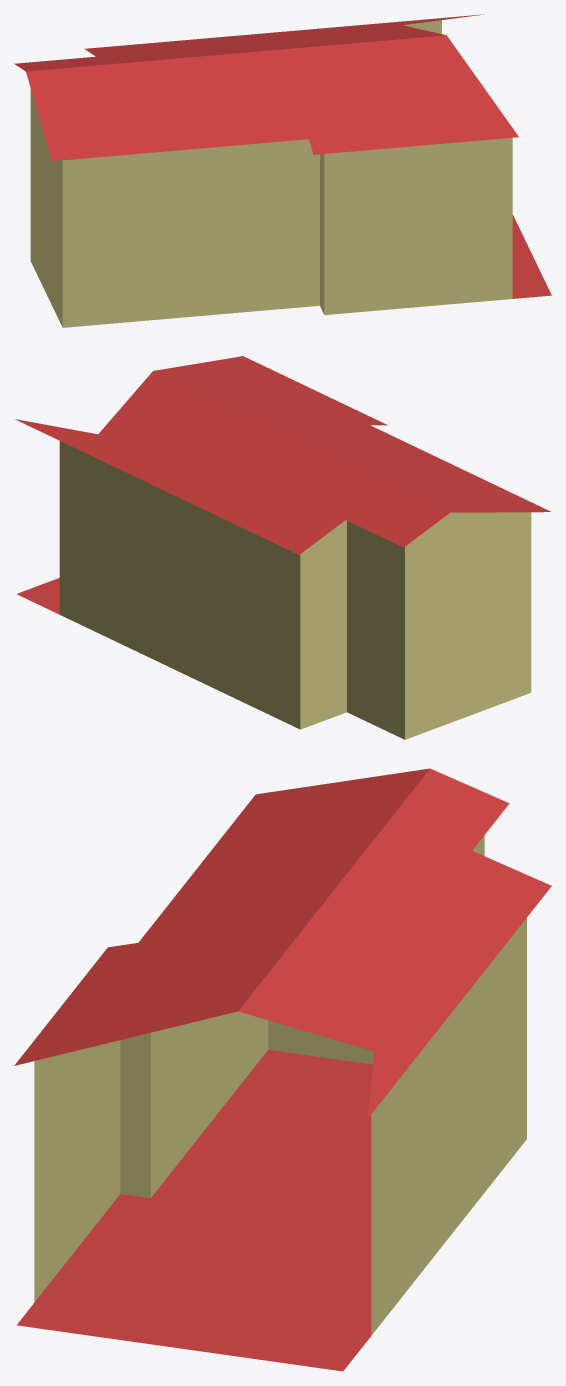
3 renders of one model, top to bottom at view 1: azimuth 30°, elevation 25°; view 2: azimuth 150°, elevation 25°; view 3: azimuth 270°, elevation 25°, orthographic. The views are drawn at different scales.
Size of the model in its own units: 19.91 by 13.63 by 8.26.
